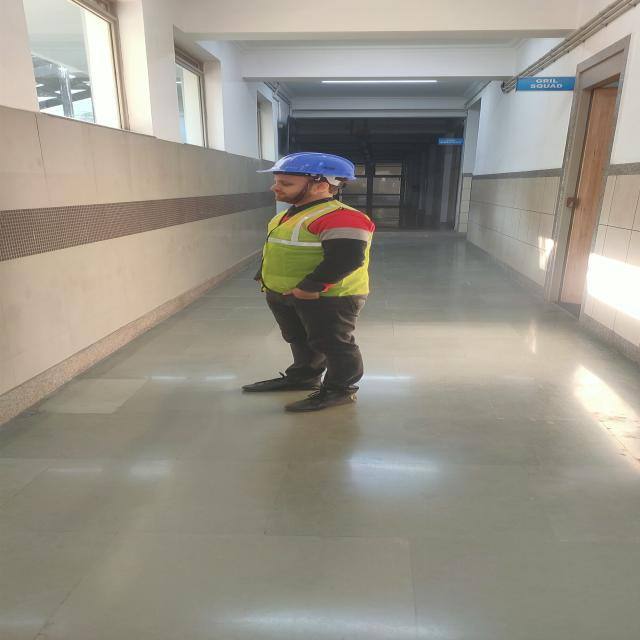safe: (236, 153, 378, 412)
